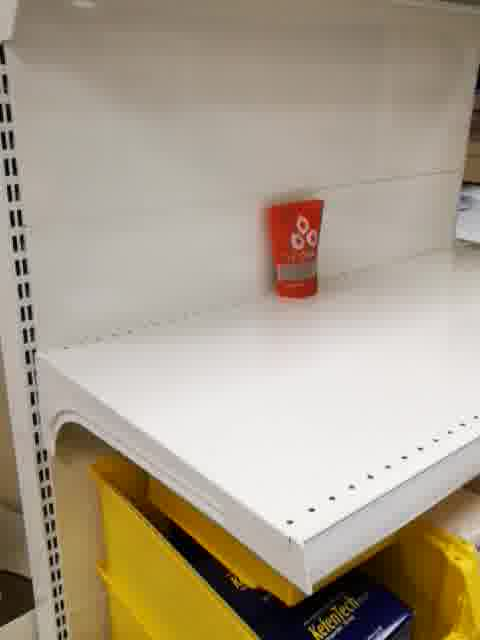whitechia: (263, 196, 330, 300)
